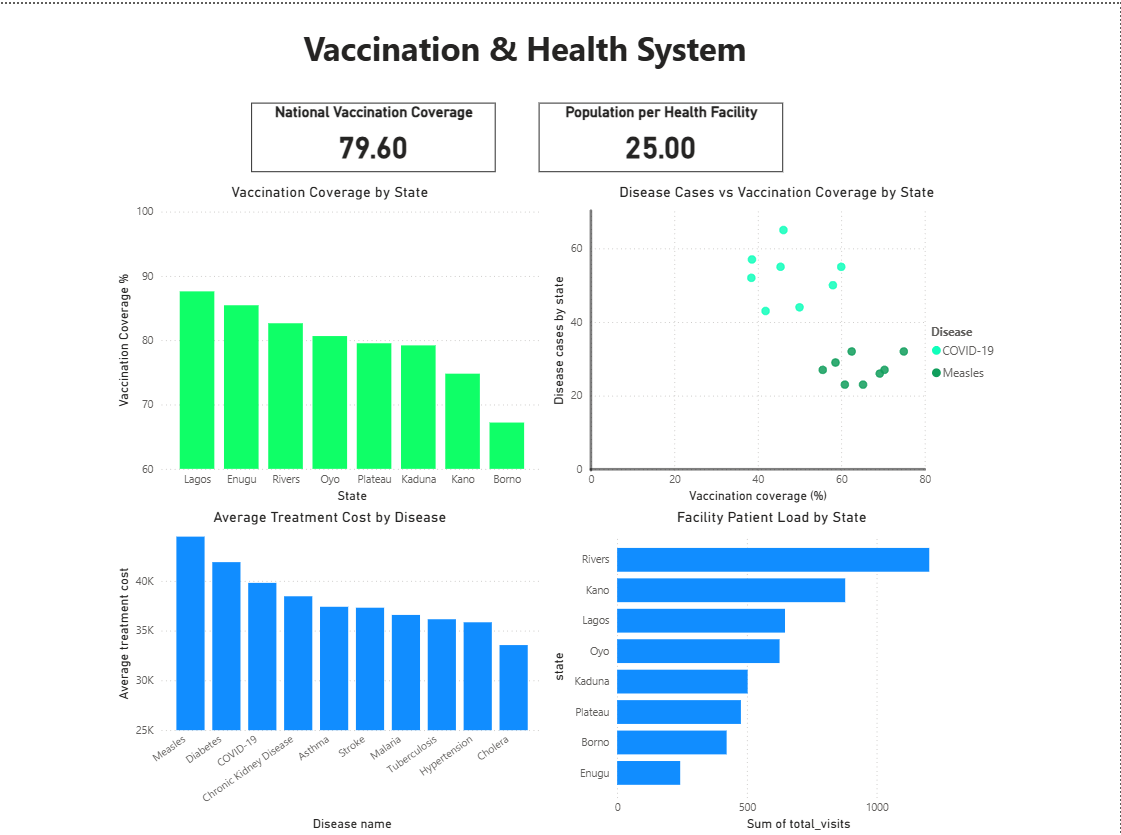

The page's visual inventory and layout, read from the dashboard file:
{"tool":"powerbi","page":{"name":"Page 2","canvas":[1280,950],"ordinal":1},"visuals":[{"type":"textbox","box":[330,20,540,72.9],"z":0},{"type":"columnChart","title":"Vaccination Coverage by State","fields":{"Category":["vw_vaccination_by_state.state"],"Y":["vw_vaccination_by_state.Vaccination Coverage %"]},"box":[129,204.8,496.8,371],"z":1000},{"type":"card","title":"National Vaccination Coverage","fields":{"Values":["Sum(vw_vaccination_coverage.vaccination_rate_pct)"]},"box":[287.1,112.9,279,79],"z":2000},{"type":"clusteredBarChart","title":"Facility Patient Load by State","fields":{"Y":["Sum(vw_facility_workload.total_visits)"],"Category":["vw_facility_workload.state"]},"box":[625.8,575.8,512.9,374.2],"z":3000},{"type":"columnChart","title":"Average Treatment Cost by Disease","fields":{"Category":["vw_avg_treatment_cost_by_disease.disease_name"],"Y":["Avg(vw_avg_treatment_cost_by_disease.avg_treatment_cost)"]},"box":[129,575.8,496.8,374.2],"z":4000},{"type":"scatterChart","title":"Disease Cases vs Vaccination Coverage by State","fields":{"Series":["vw_cases_vs_vaccinated_by_state.disease_name"],"X":["vw_cases_vs_vaccinated_by_state.vaccination_coverage_pct"],"Y":["vw_cases_vs_vaccinated_by_state.infected_people"]},"box":[625.7,204.3,524.3,371.4],"z":5000},{"type":"card","title":"Population per Health Facility","fields":{"Values":["vw_facility_workload.Population per Facility"]},"box":[616,113,279,79],"z":6000}]}

Visuals, with their boxes in screenshot pixels (x1, y1, x2, y2), scaled from the page's 1280x950 canvas onto the 1121x835 screenshot:
textbox: <box>289,18,762,82</box>
"Vaccination Coverage by State" columnChart: <box>113,180,548,506</box>
"National Vaccination Coverage" card: <box>251,99,496,169</box>
"Facility Patient Load by State" clusteredBarChart: <box>548,506,997,834</box>
"Average Treatment Cost by Disease" columnChart: <box>113,506,548,834</box>
"Disease Cases vs Vaccination Coverage by State" scatterChart: <box>548,180,1007,506</box>
"Population per Health Facility" card: <box>539,99,784,169</box>
